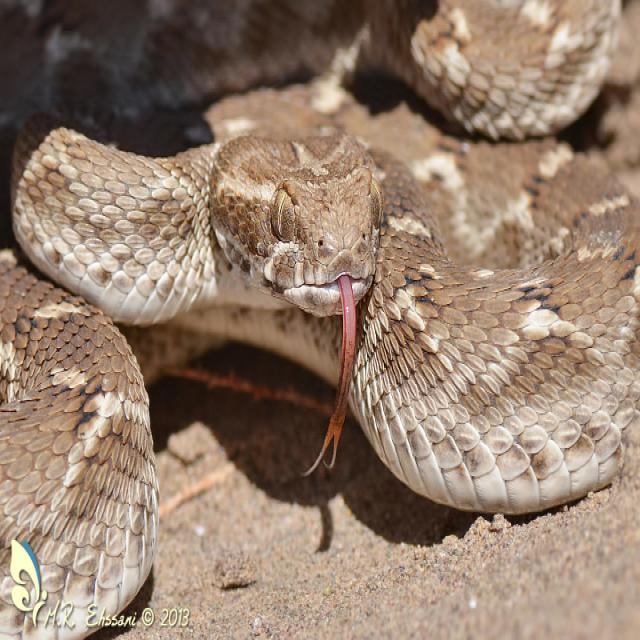Snake: (0, 2, 639, 602)
